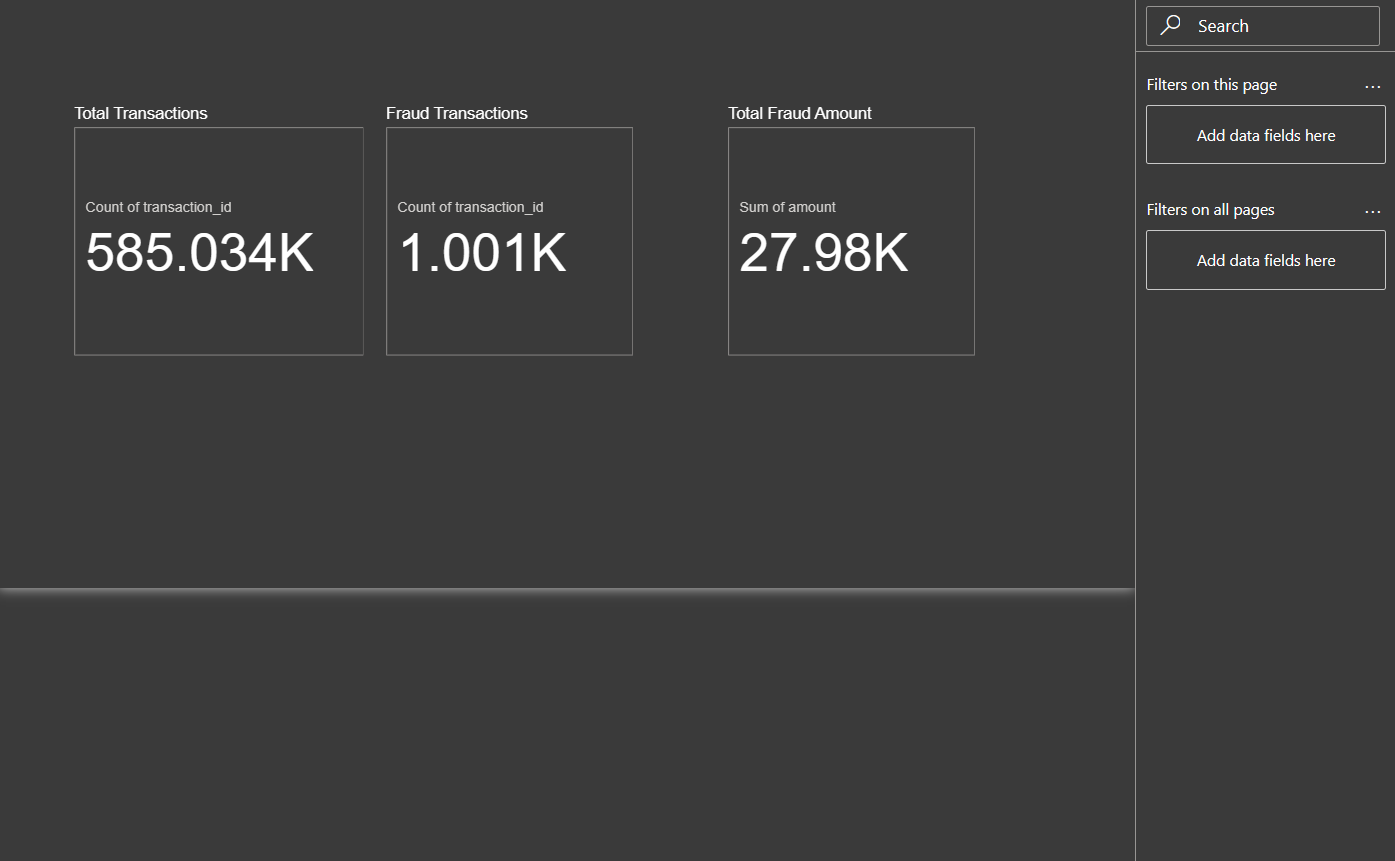

Layout of this report page (visuals, bound fields, positions):
{"tool":"powerbi","page":{"name":"Transaction Analysis Dashboard","canvas":[1280,720],"ordinal":0},"visuals":[{"type":"cardVisual","title":" Total Transactions","fields":{"Data":["CountNonNull(warehouse fact_transactions.transaction_id)"]},"box":[80,176,288,288],"z":0},{"type":"cardVisual","title":"Fraud Transactions","fields":{"Data":["CountNonNull(warehouse fact_transactions.transaction_id)"]},"box":[432,176,288,288],"z":1},{"type":"cardVisual","title":"Total Fraud Amount","fields":{"Data":["Sum(warehouse fact_transactions.amount)"]},"box":[816,176,288,288],"z":2}]}

Visuals, with their boxes on the page's 1280x720 design canvas (x1, y1, x2, y2). These are canvas units, not pixel positions in the 1395x861 screenshot, which may show the page scaled, cropped or inside an application window:
" Total Transactions" cardVisual: [x1=80, y1=176, x2=368, y2=464]
"Fraud Transactions" cardVisual: [x1=432, y1=176, x2=720, y2=464]
"Total Fraud Amount" cardVisual: [x1=816, y1=176, x2=1104, y2=464]
